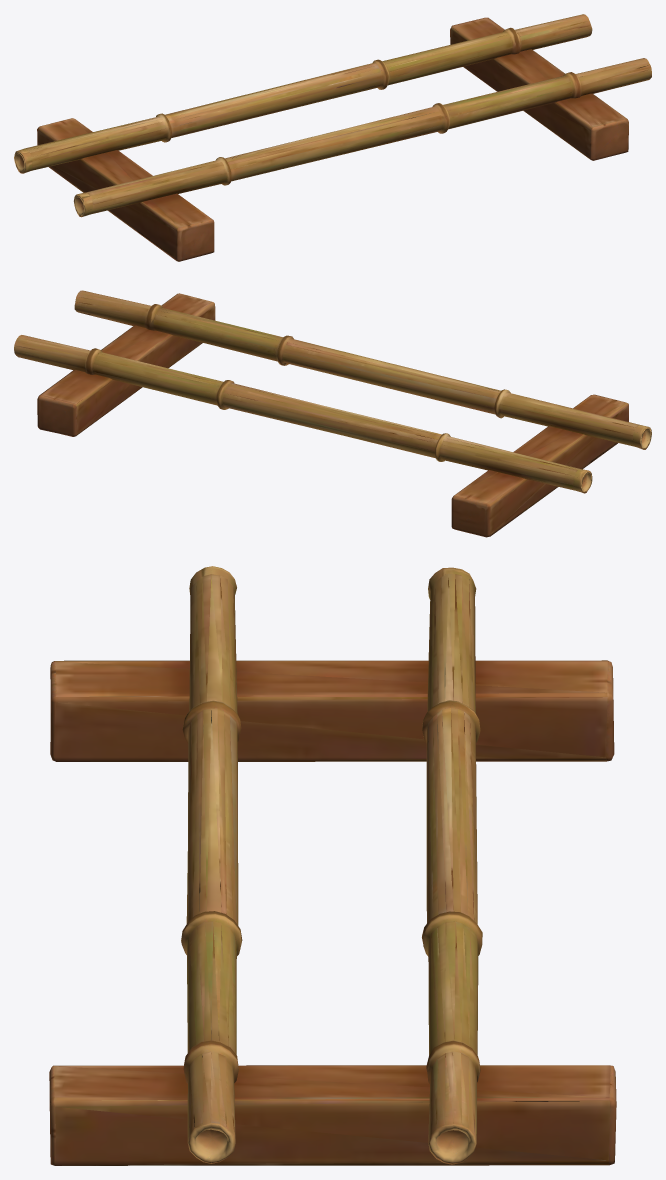
Rendered from tinikling.glb.
3 renders of one model, top to bottom at view 1: azimuth 30°, elevation 25°; view 2: azimuth 150°, elevation 25°; view 3: azimuth 270°, elevation 25°, orthographic. The views are drawn at different scales.
Visible parts, largest first — view 1: geometry_0; view 2: geometry_0; view 3: geometry_0.
Boxes of the visible parts, x1,y1,x2,y2 form: geometry_0: (14,14,651,261); geometry_0: (14,290,651,537); geometry_0: (49,566,616,1165).
Bounding box in the file's own units: 1 × 0.0939 × 0.4336.
1 material, 1 textured.
